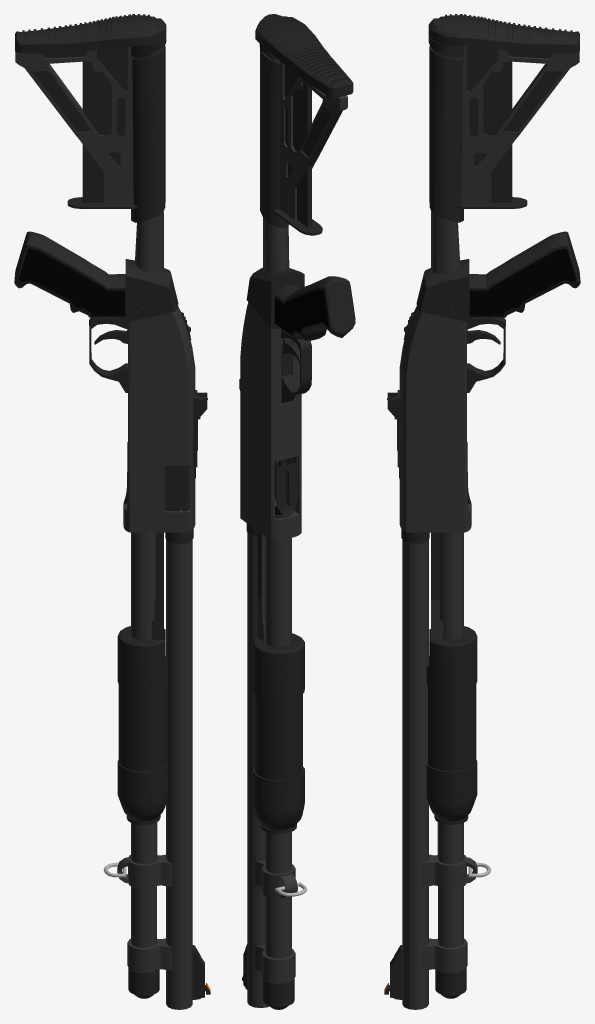
The model's file is shotgun.fbx.
3 views of the same model, side by side, from view 1: azimuth 90°, elevation 25°; view 2: azimuth 210°, elevation 25°; view 3: azimuth 270°, elevation 25° (orthographic).
Visible parts, largest first — view 1: shotgun; view 2: shotgun; view 3: shotgun.
Boxes of the visible parts, x1,y1,x2,y2 form: shotgun: (14, 14, 210, 1009); shotgun: (239, 14, 355, 1009); shotgun: (384, 14, 580, 1009).
Bounding box in the file's own units: 57.97 × 219 × 1212.
Materials: 1 (1 with a texture image).
